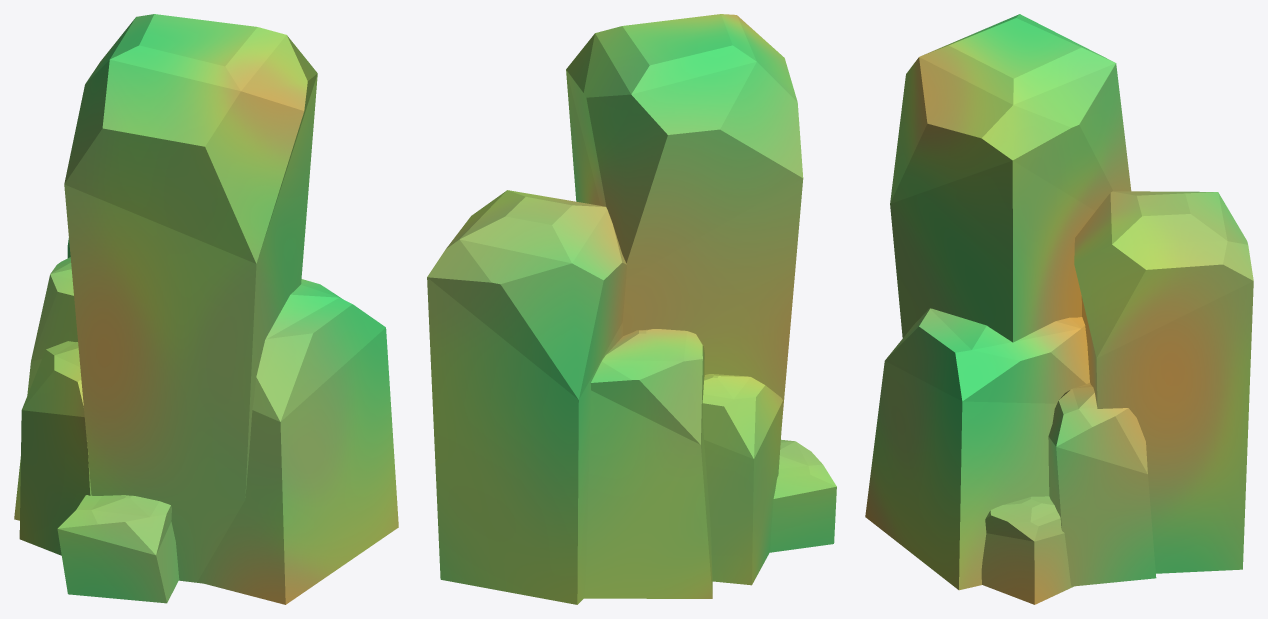
Rendered from 2deraumere.glb.
The picture shows the model from 3 angles, left to right: view 1: azimuth 30°, elevation 25°; view 2: azimuth 150°, elevation 25°; view 3: azimuth 270°, elevation 25°; orthographic projection. The views are drawn at different scales.
Visible parts, largest first — view 1: Object_4.002; view 2: Object_4.002; view 3: Object_4.002.
Boxes of the visible parts, <box> form: Object_4.002: <box>14,14,398,604</box>; Object_4.002: <box>427,14,836,604</box>; Object_4.002: <box>865,14,1253,604</box>.
Size of the model in its own units: 0.7186 by 0.9908 by 0.7401.
1 material, 1 textured.
